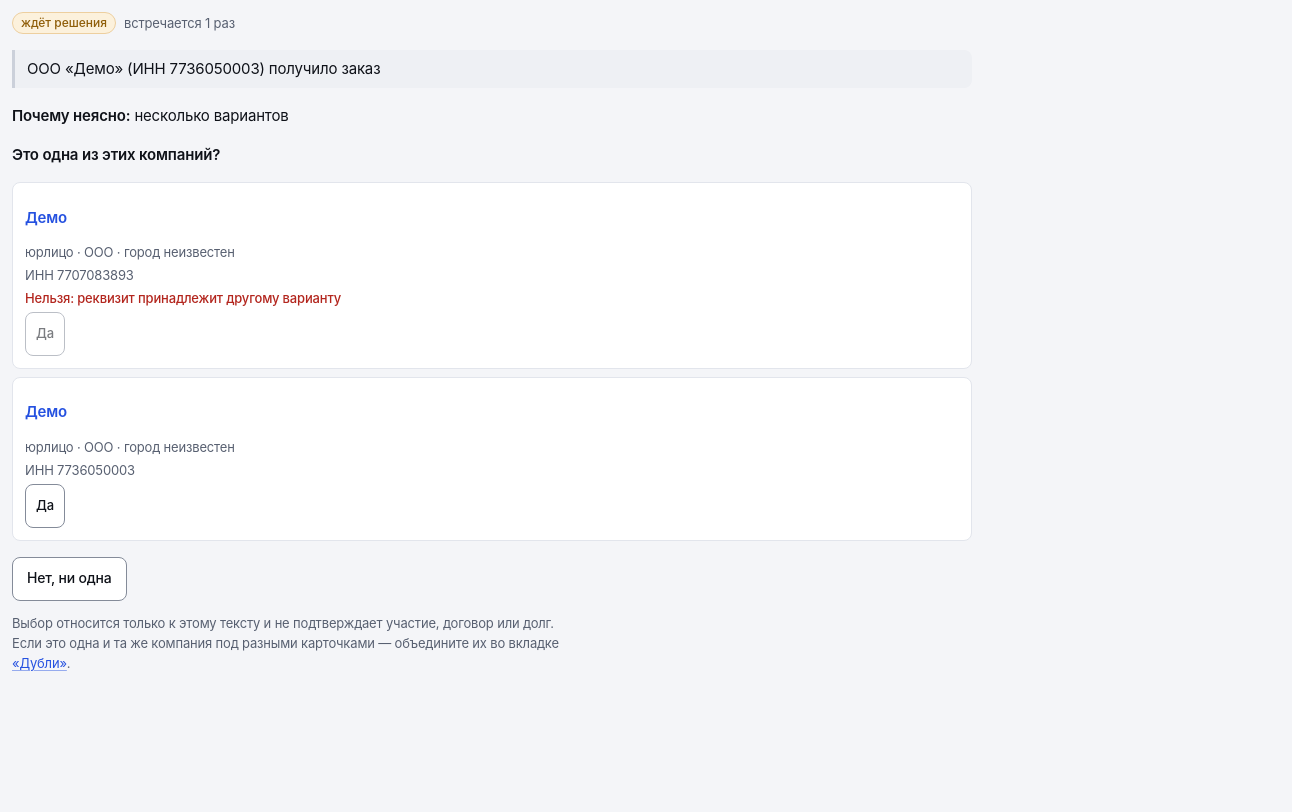
AmbiguityDetail — выбор компании › «Да» записывает выбор сразу, без причины
Click the button with aria-label "Да, это" at (45, 506), box top-left (25, 484), bottom-right (65, 528)
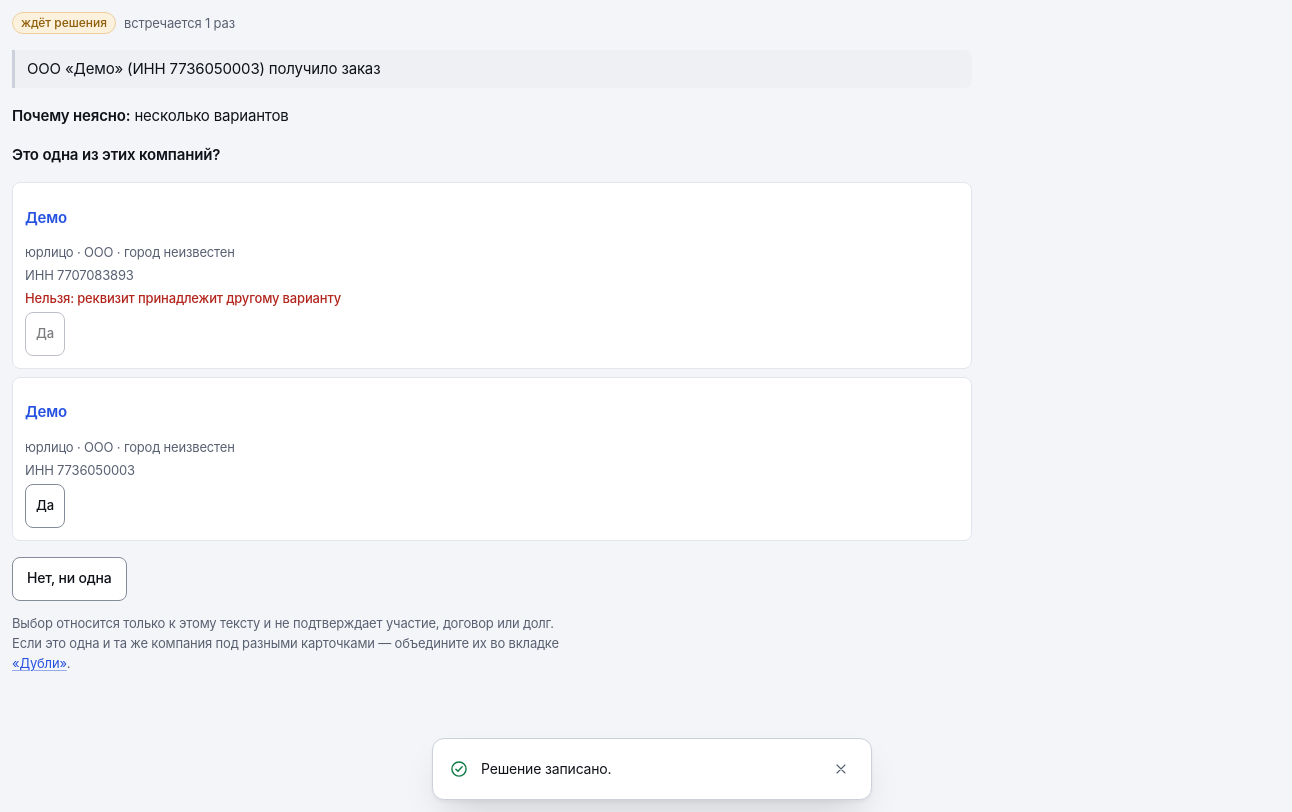
Now the text "Решение записано." is shown, box top-left (481, 760), bottom-right (612, 776)
